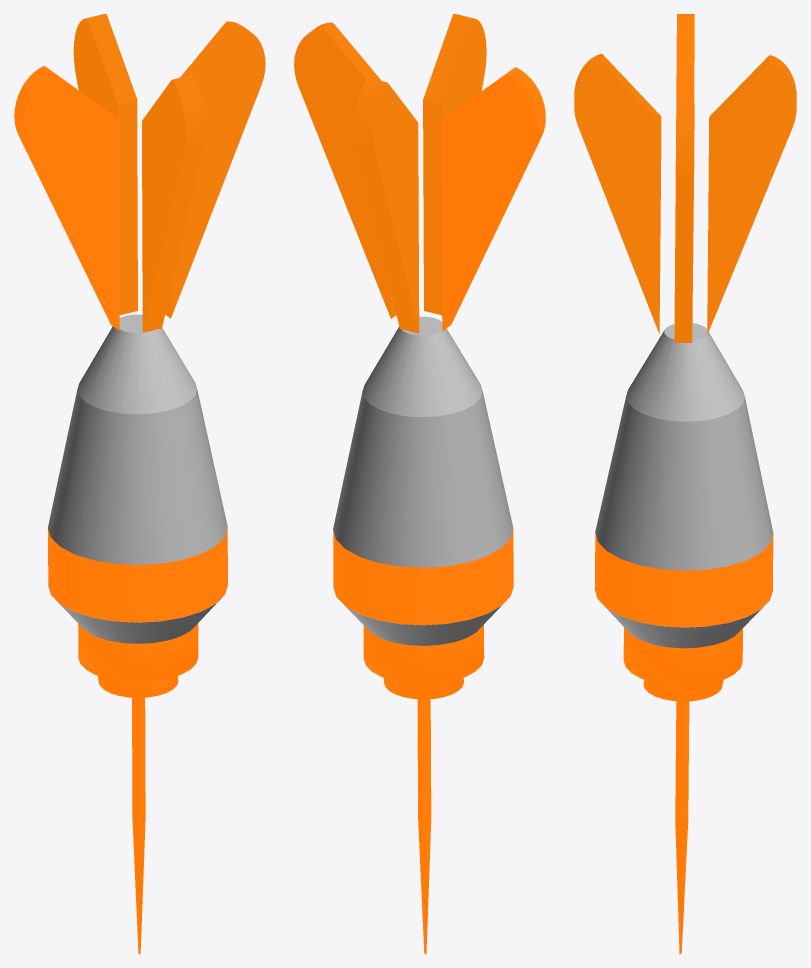
The model's file is Pfeil01_1_5.dae.
The picture shows the model from 3 angles, left to right: view 1: azimuth 30°, elevation 25°; view 2: azimuth 150°, elevation 25°; view 3: azimuth 270°, elevation 25°; orthographic projection.
Visible parts, largest first — view 1: ID36, group_6, group_3, ID56, group_5, ID48, group_4, ID42; view 2: ID36, group_6, group_4, ID56, group_5, ID48, group_3, ID42; view 3: ID36, group_4, group_3, ID56, ID48, group_5, ID42, group_6.
Boxes of the visible parts, <box> form: ID36: <box>48,314,227,564</box>; group_6: <box>14,66,119,330</box>; group_3: <box>142,75,205,332</box>; ID56: <box>48,529,227,622</box>; group_5: <box>165,21,265,318</box>; ID48: <box>78,623,198,953</box>; group_4: <box>73,14,137,315</box>; ID42: <box>48,585,227,643</box>; ID36: <box>333,316,513,567</box>; group_6: <box>441,67,545,331</box>; group_4: <box>354,77,419,333</box>; ID56: <box>333,530,513,625</box>; group_5: <box>294,22,396,318</box>; ID48: <box>363,625,484,953</box>; group_3: <box>423,14,486,315</box>; ID42: <box>333,586,513,645</box>; ID36: <box>595,323,773,570</box>; group_4: <box>707,55,796,334</box>; group_3: <box>574,53,661,334</box>; ID56: <box>595,533,773,627</box>; ID48: <box>623,627,742,953</box>; group_5: <box>674,103,694,342</box>; ID42: <box>594,588,772,648</box>; group_6: <box>674,14,694,316</box>.
Bounding box in the file's own units: 3.95 × 14.11 × 3.18.
